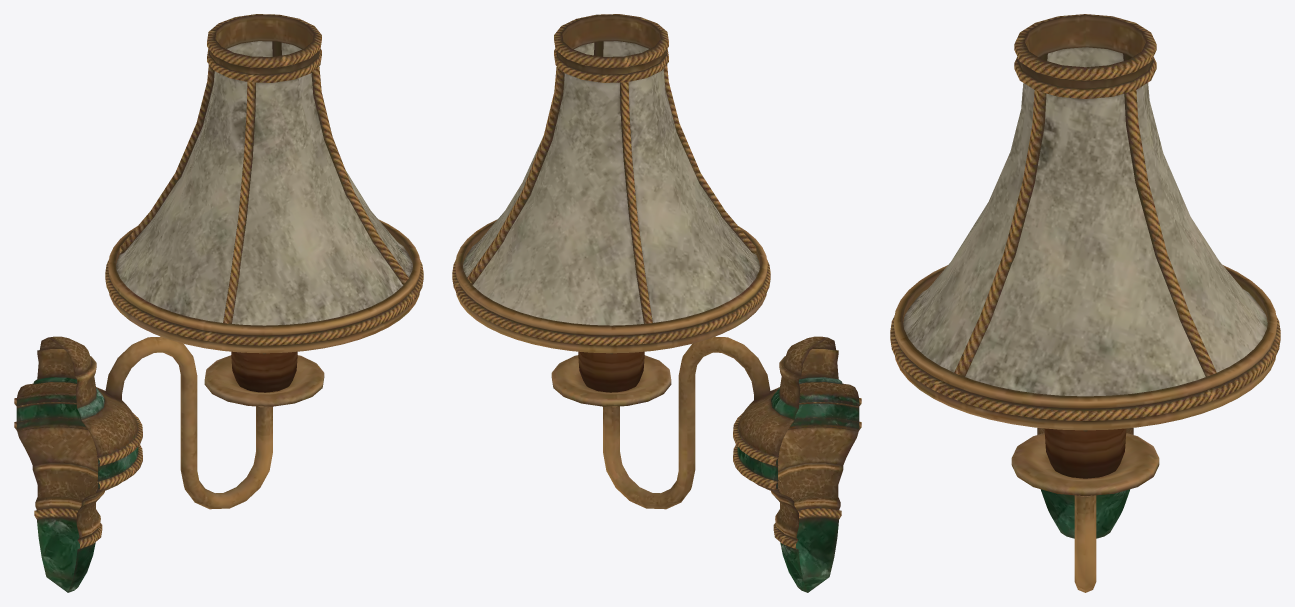
Rendered from lamp.glb.
The picture shows the model from 3 angles, left to right: view 1: azimuth 30°, elevation 25°; view 2: azimuth 150°, elevation 25°; view 3: azimuth 270°, elevation 25°; orthographic projection. The views are drawn at different scales.
Parts seen in each view (by area): view 1: Cylinder.021_Material_0, Cylinder.017_Material_0, Cylinder.019_Material_0, Torus.001_Material_0, Cylinder.026_Material_0, Cylinder.020_Material_0, Cylinder.022_Material_0, Cylinder.016_Material_0, Cylinder.014_Material_0; view 2: Cylinder.021_Material_0, Cylinder.017_Material_0, Cylinder.019_Material_0, Torus.001_Material_0, Cylinder.026_Material_0, Cylinder.020_Material_0, Cylinder.022_Material_0, Cylinder.016_Material_0, Cylinder.014_Material_0; view 3: Cylinder.021_Material_0, Cylinder.019_Material_0, Cylinder.020_Material_0, Cylinder.026_Material_0, Cylinder.022_Material_0, Cylinder.016_Material_0, Cylinder.017_Material_0, Torus.001_Material_0.
Boxes of the visible parts, bbox=[...] form: Cylinder.021_Material_0: bbox=[116, 41, 412, 325]; Cylinder.017_Material_0: bbox=[16, 336, 138, 592]; Cylinder.019_Material_0: bbox=[105, 219, 423, 353]; Torus.001_Material_0: bbox=[105, 336, 272, 509]; Cylinder.026_Material_0: bbox=[119, 41, 408, 323]; Cylinder.020_Material_0: bbox=[207, 14, 321, 82]; Cylinder.022_Material_0: bbox=[204, 355, 324, 407]; Cylinder.016_Material_0: bbox=[231, 351, 297, 392]; Cylinder.014_Material_0: bbox=[14, 394, 142, 489]; Cylinder.021_Material_0: bbox=[463, 41, 759, 325]; Cylinder.017_Material_0: bbox=[737, 336, 859, 592]; Cylinder.019_Material_0: bbox=[452, 219, 770, 353]; Torus.001_Material_0: bbox=[603, 336, 770, 509]; Cylinder.026_Material_0: bbox=[467, 41, 756, 323]; Cylinder.020_Material_0: bbox=[554, 14, 668, 82]; Cylinder.022_Material_0: bbox=[551, 355, 671, 407]; Cylinder.016_Material_0: bbox=[578, 351, 644, 392]; Cylinder.014_Material_0: bbox=[733, 394, 861, 489]; Cylinder.021_Material_0: bbox=[903, 47, 1267, 396]; Cylinder.019_Material_0: bbox=[890, 265, 1280, 430]; Cylinder.020_Material_0: bbox=[1014, 14, 1156, 98]; Cylinder.026_Material_0: bbox=[954, 53, 1216, 376]; Cylinder.022_Material_0: bbox=[1011, 433, 1159, 496]; Cylinder.016_Material_0: bbox=[1044, 428, 1126, 478]; Cylinder.017_Material_0: bbox=[1037, 428, 1133, 538]; Torus.001_Material_0: bbox=[1074, 495, 1096, 592].
Size of the model in its own units: 0.3988 by 0.55 by 0.3186.
1 material, 1 textured.
